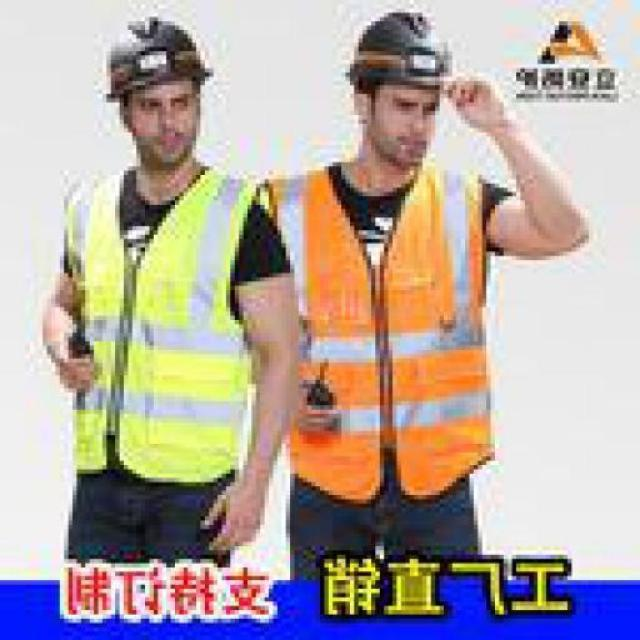vest: (279, 187, 486, 474), (70, 178, 240, 480)
